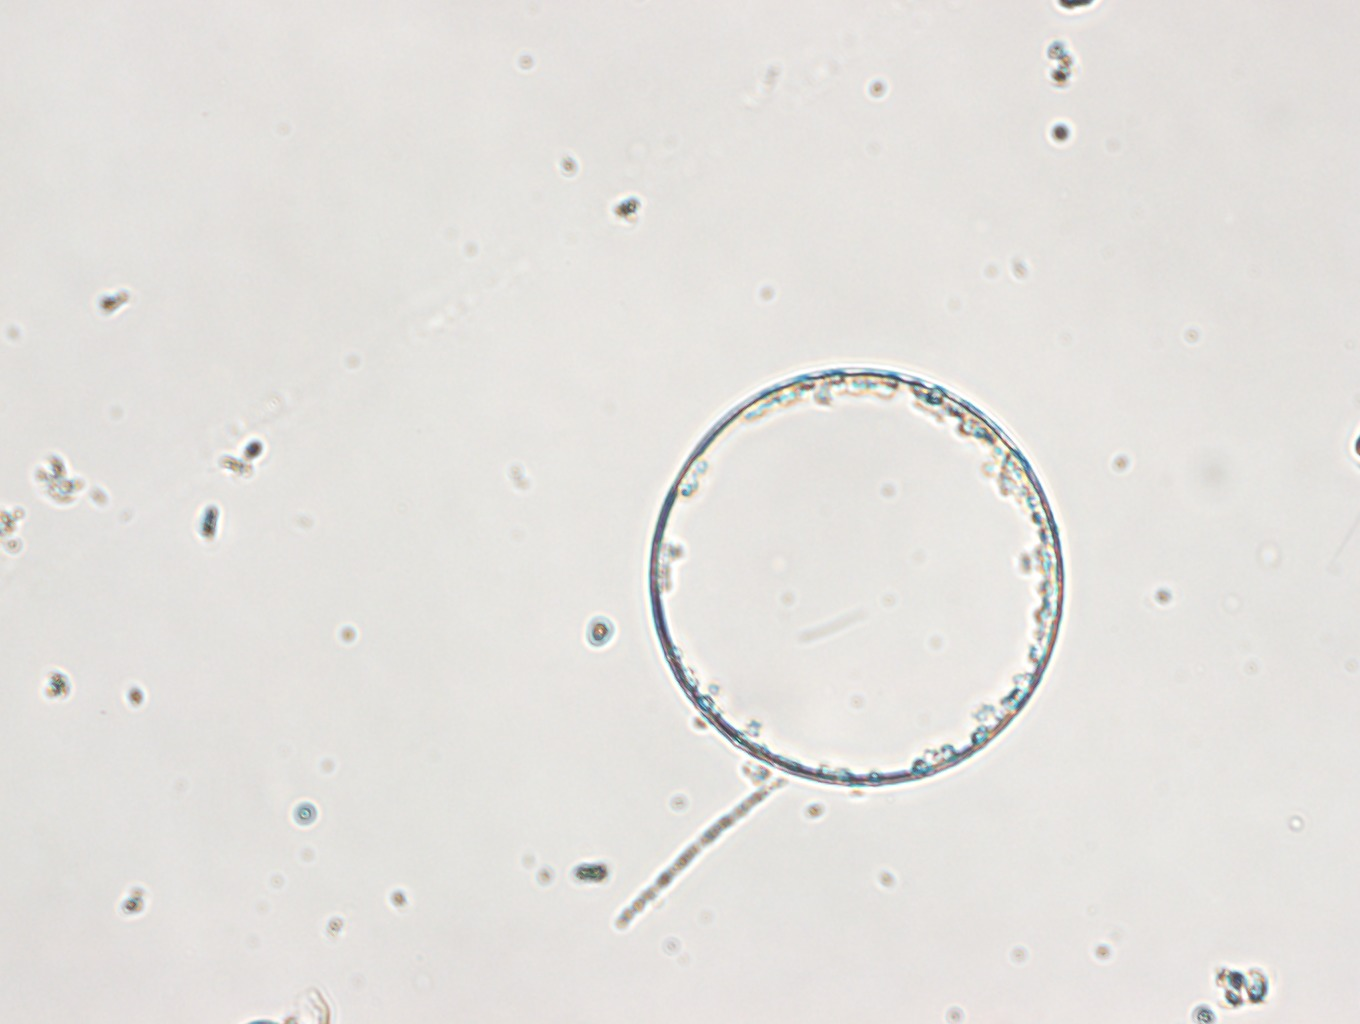coscinodiscus: (645, 362, 1068, 794)
